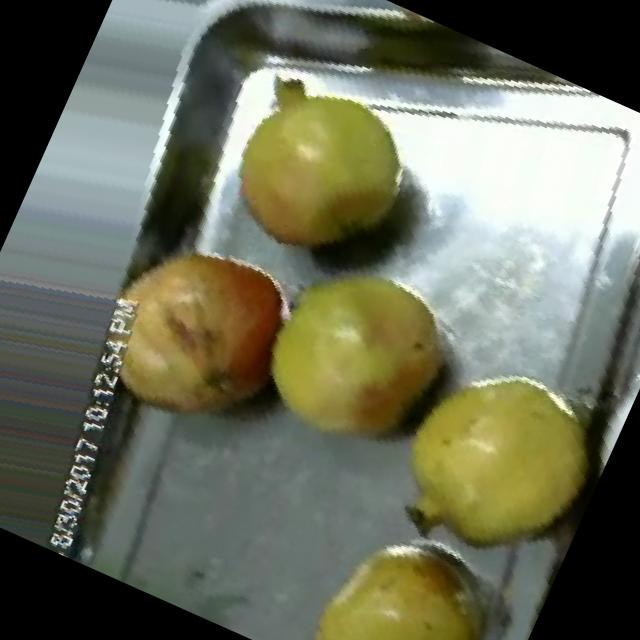fruit: (166, 15, 476, 326), (338, 304, 638, 612), (208, 203, 499, 504), (50, 183, 337, 478), (279, 483, 552, 640)
